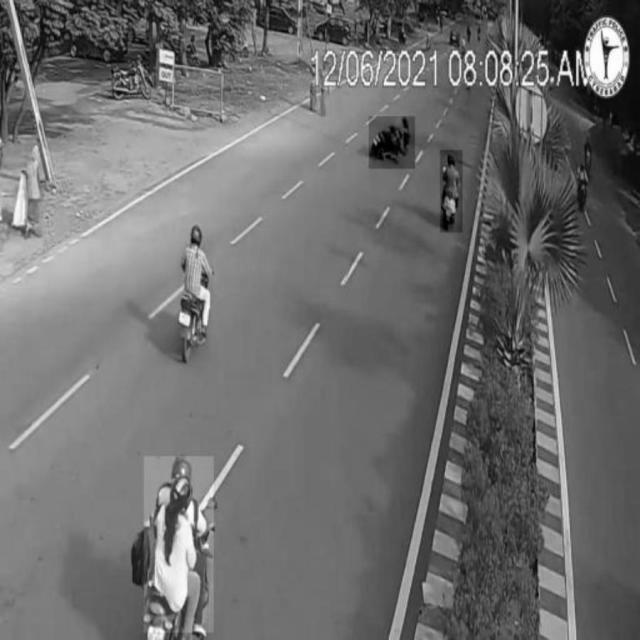accident: (369, 116, 415, 168)
person: (25, 144, 43, 237)
vehicle: (144, 457, 214, 633), (178, 229, 213, 361), (440, 150, 464, 232)
